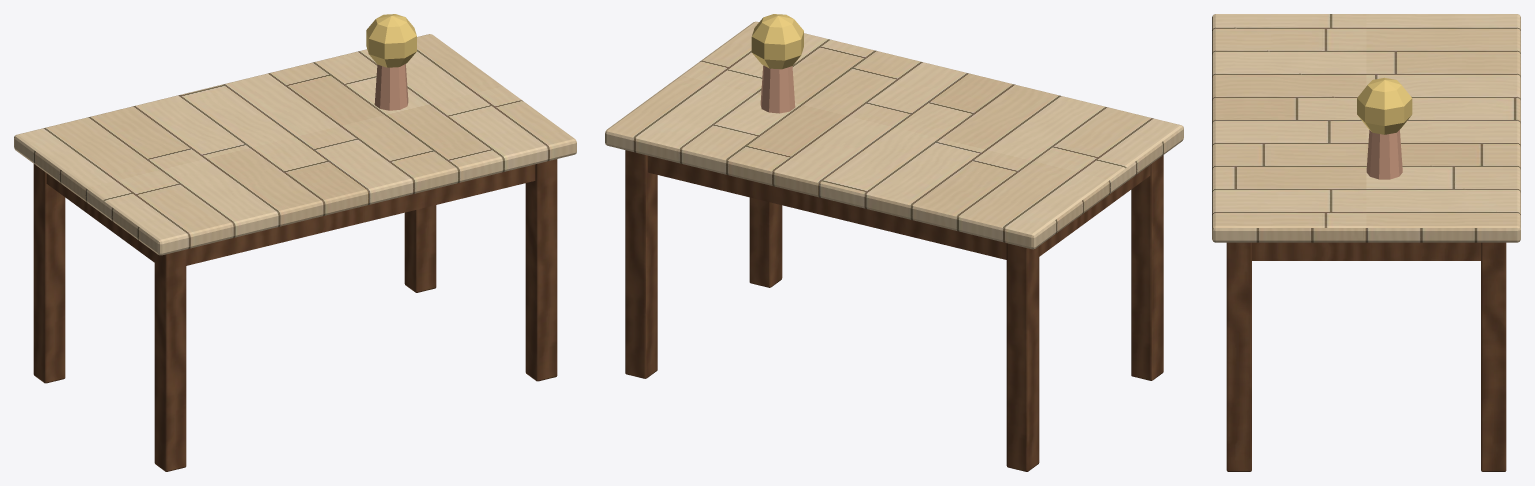
3 renders of one model, left to right at view 1: azimuth 30°, elevation 25°; view 2: azimuth 150°, elevation 25°; view 3: azimuth 270°, elevation 25°, orthographic. The views are drawn at different scales.
Parts seen in each view (by area): view 1: Decor_dining_table; view 2: Decor_dining_table; view 3: Decor_dining_table.
Boxes of the visible parts, x1=… form: Decor_dining_table: x1=14, y1=14, x2=576, y2=471; Decor_dining_table: x1=605, y1=14, x2=1183, y2=471; Decor_dining_table: x1=1212, y1=14, x2=1520, y2=471.
Bounding box in the file's own units: 1.4 × 1.05 × 0.85.
4 materials, 2 textured.
